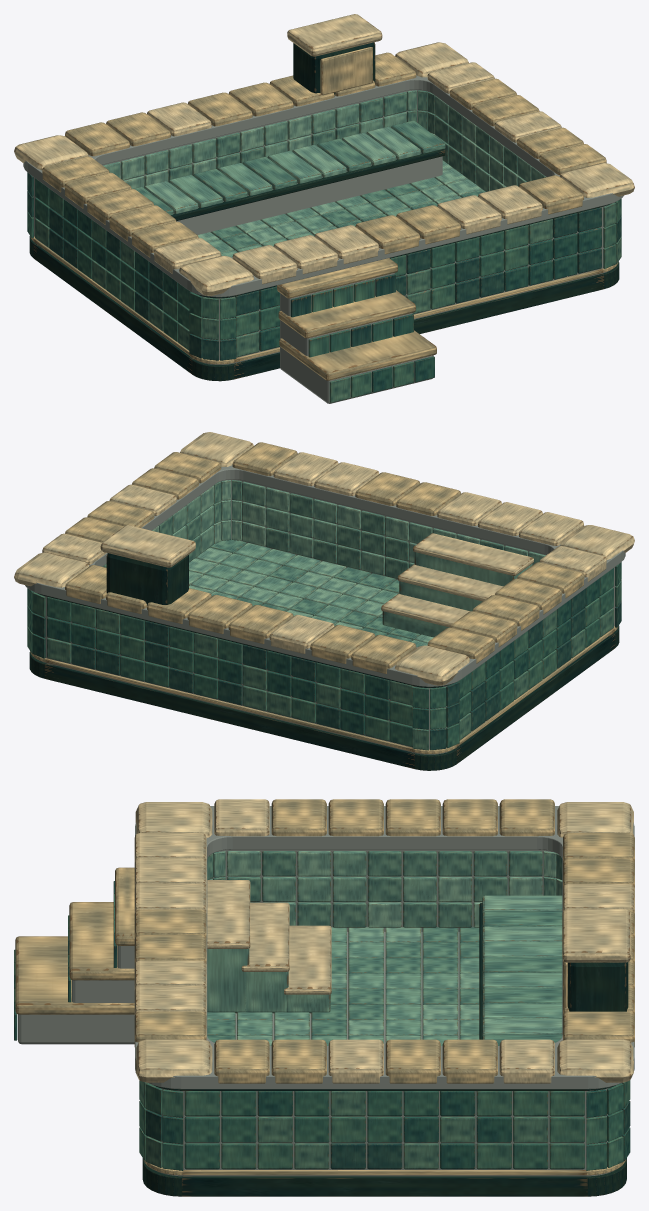
File: SM_Bath_01_Painterly_Body.fbx
3 views of the same model, one above another, from view 1: azimuth 30°, elevation 25°; view 2: azimuth 150°, elevation 25°; view 3: azimuth 270°, elevation 25° (orthographic). The views are drawn at different scales.
Visible parts, largest first — view 1: SM_Bath_01_Painterly_Body; view 2: SM_Bath_01_Painterly_Body; view 3: SM_Bath_01_Painterly_Body.
Part boxes in pixels (x1=…): SM_Bath_01_Painterly_Body: x1=14, y1=14, x2=634, y2=403; SM_Bath_01_Painterly_Body: x1=14, y1=432, x2=634, y2=770; SM_Bath_01_Painterly_Body: x1=14, y1=799, x2=634, y2=1196.
Size of what is drawn, in the model's own units: 4.57 by 4.43 by 1.61.
Materials: 13 (11 with a texture image).
